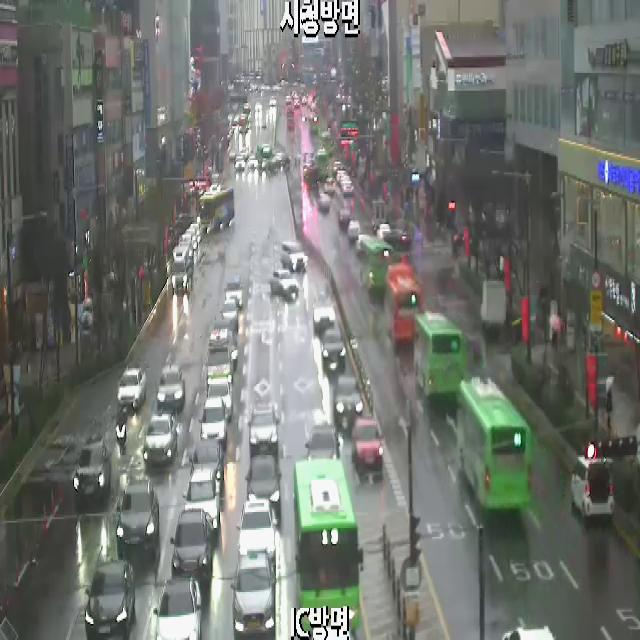Bus: (292, 458, 362, 634), (458, 377, 532, 515), (415, 311, 467, 398), (384, 264, 422, 352), (361, 239, 392, 293), (200, 185, 234, 232), (315, 146, 329, 179), (256, 144, 272, 168)
Car: (85, 560, 136, 640), (230, 551, 275, 640), (116, 479, 159, 559), (170, 508, 212, 584), (236, 499, 277, 576), (153, 576, 201, 640), (571, 457, 614, 522), (73, 435, 112, 502), (182, 468, 220, 532), (244, 456, 282, 514), (188, 440, 224, 490), (143, 414, 177, 464), (334, 376, 364, 432), (352, 420, 384, 472), (248, 409, 280, 457), (198, 398, 228, 448), (304, 421, 340, 461), (206, 332, 233, 384), (157, 364, 185, 410), (117, 367, 146, 411), (205, 378, 233, 422), (321, 328, 346, 374), (270, 269, 300, 298), (281, 241, 308, 272), (172, 247, 188, 294), (312, 297, 336, 326), (224, 275, 244, 308), (384, 228, 412, 250), (220, 304, 239, 332), (338, 208, 354, 229), (180, 240, 193, 265), (184, 228, 198, 250), (230, 333, 238, 371), (356, 235, 371, 255), (347, 221, 361, 241), (190, 224, 202, 243), (318, 194, 330, 212), (342, 181, 354, 198), (324, 177, 335, 194), (377, 224, 390, 238), (234, 156, 245, 171), (333, 161, 343, 175), (340, 175, 350, 188), (248, 154, 256, 170), (336, 170, 346, 182)
Truck: (479, 281, 506, 334), (372, 198, 386, 232)
